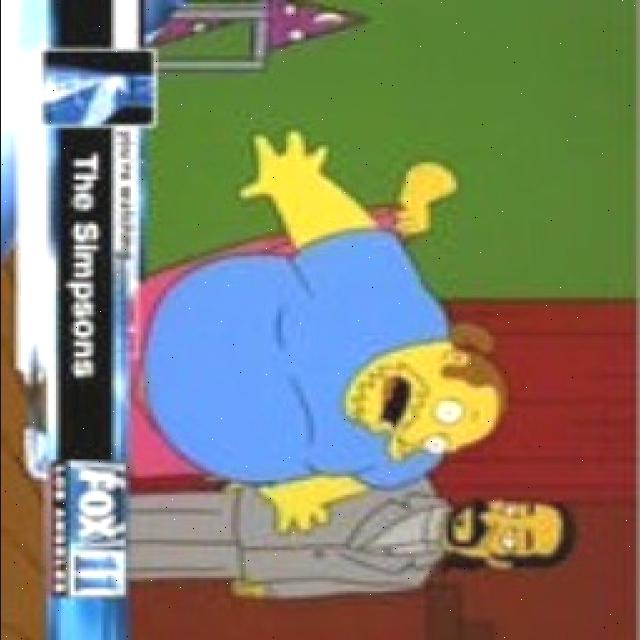Comic Book Guy: (336, 330, 508, 464)
